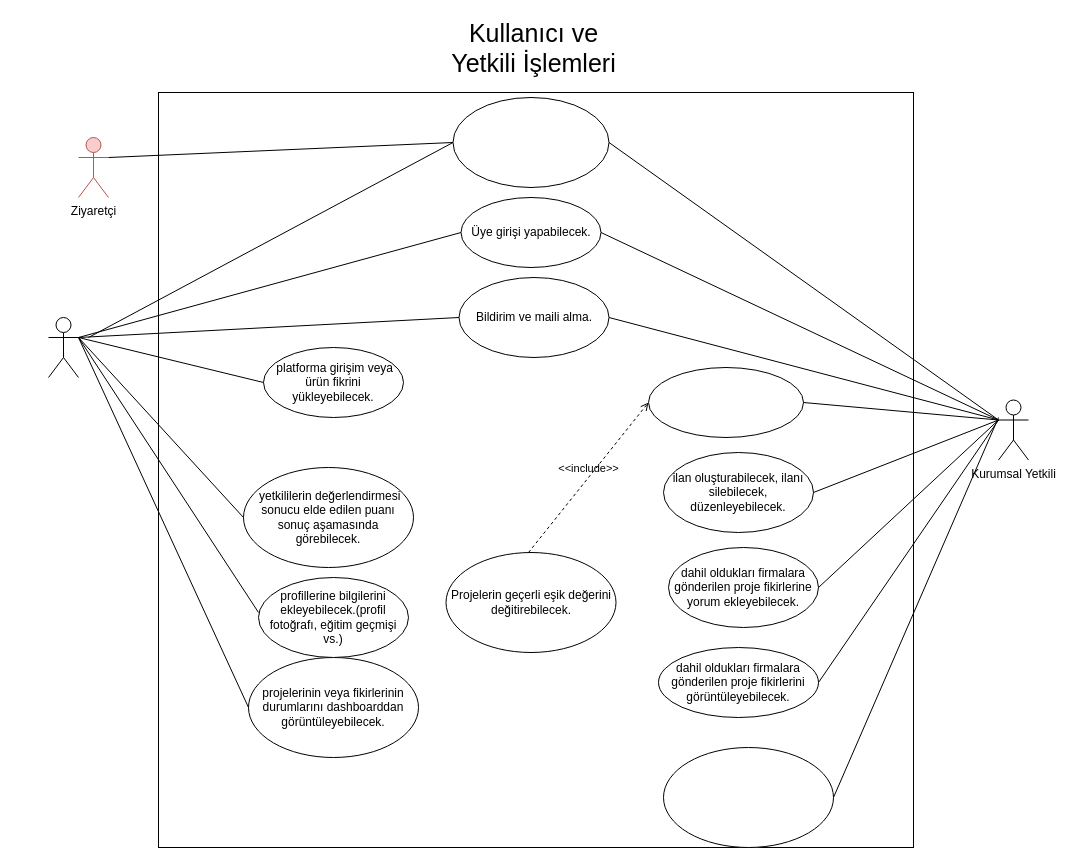
This 1073x865 diagram has some shape labels left out. Each missing label, with the box of its shape:
Bireysel Kullanıcı: (48, 316, 78, 378)
dahil oldukları firmalara gönderilen proje fikirlerine puan verebilecek.: (648, 366, 804, 438)
firmaların oluşturduğu ilanları, yarışmaları görebilecek: (452, 96, 609, 188)
yetkili olduğu kurumlara temsilci ekleyip, silebilecektir.: (662, 746, 834, 848)
